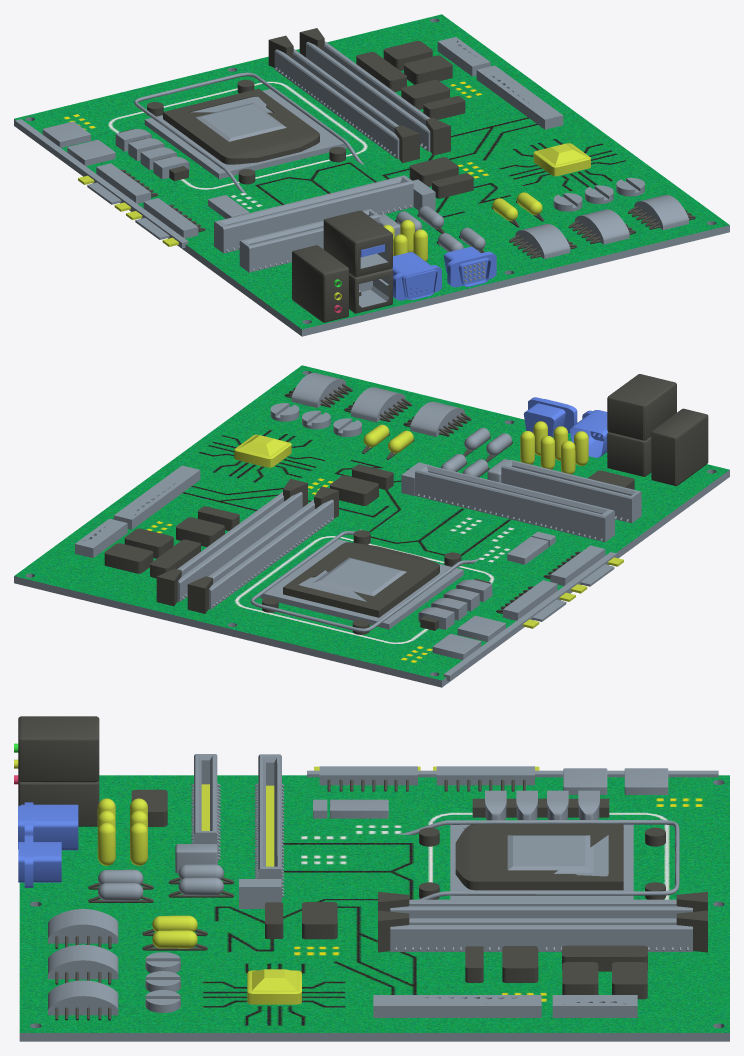
Rendered from simple motherboard.fbx.
3 views of the same model, one above another, from view 1: azimuth 30°, elevation 25°; view 2: azimuth 150°, elevation 25°; view 3: azimuth 270°, elevation 25° (orthographic). The views are drawn at different scales.
Visible parts, largest first — view 1: Motherboard; view 2: Motherboard; view 3: Motherboard.
Boxes of the visible parts, x1,y1,x2,y2 form: Motherboard: (14,14,729,336); Motherboard: (14,365,729,687); Motherboard: (14,716,729,1041).
Size of the model in its own units: 127 by 22.38 by 144.
